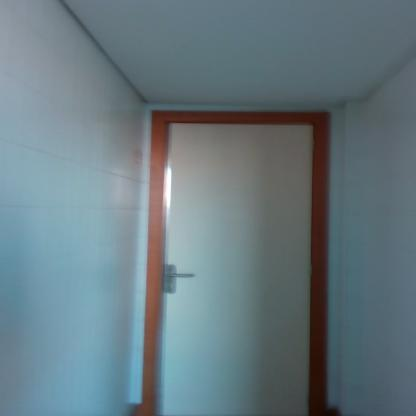door: (166, 122, 310, 416)
lever: (171, 272, 197, 280)
